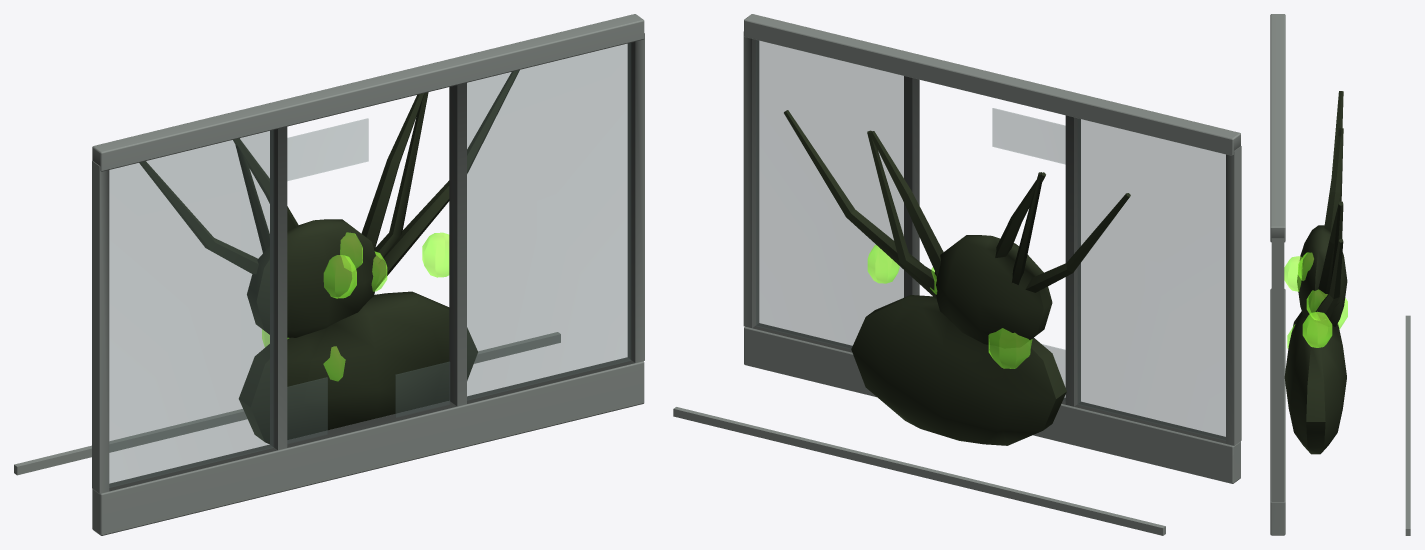
The model's file is research_room.glb.
3 renders of one model, left to right at view 1: azimuth 30°, elevation 25°; view 2: azimuth 150°, elevation 25°; view 3: azimuth 270°, elevation 25°, orthographic. The views are drawn at different scales.
Visible parts, largest first — view 1: ResearchRoom; view 2: ResearchRoom; view 3: ResearchRoom.
Boxes of the visible parts, x1,y1,x2,y2 form: ResearchRoom: [14, 14, 644, 535]; ResearchRoom: [673, 14, 1241, 535]; ResearchRoom: [1270, 14, 1410, 535].
Size of the model in its own units: 4.01 by 2.75 by 1.11.
